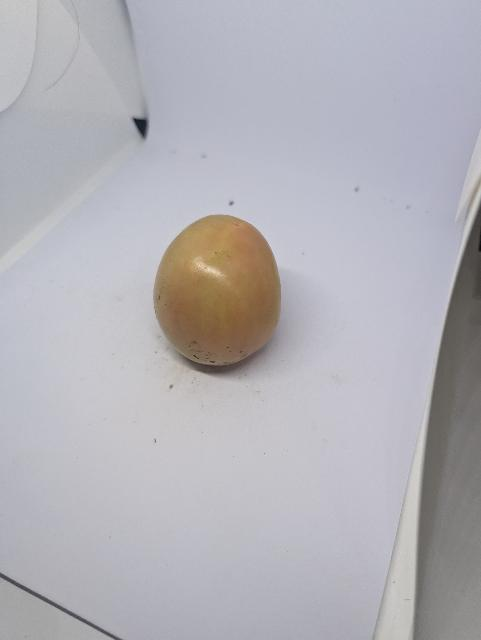turning: (145, 210, 295, 376)
